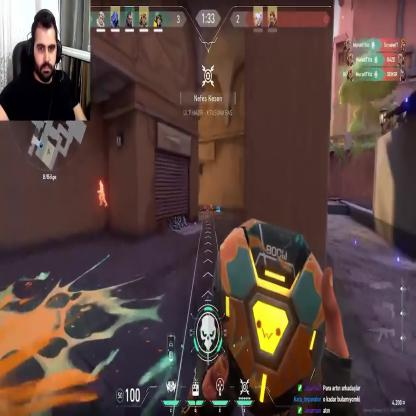enemy: (98, 180, 108, 208)
enemy_head: (99, 180, 102, 185)
